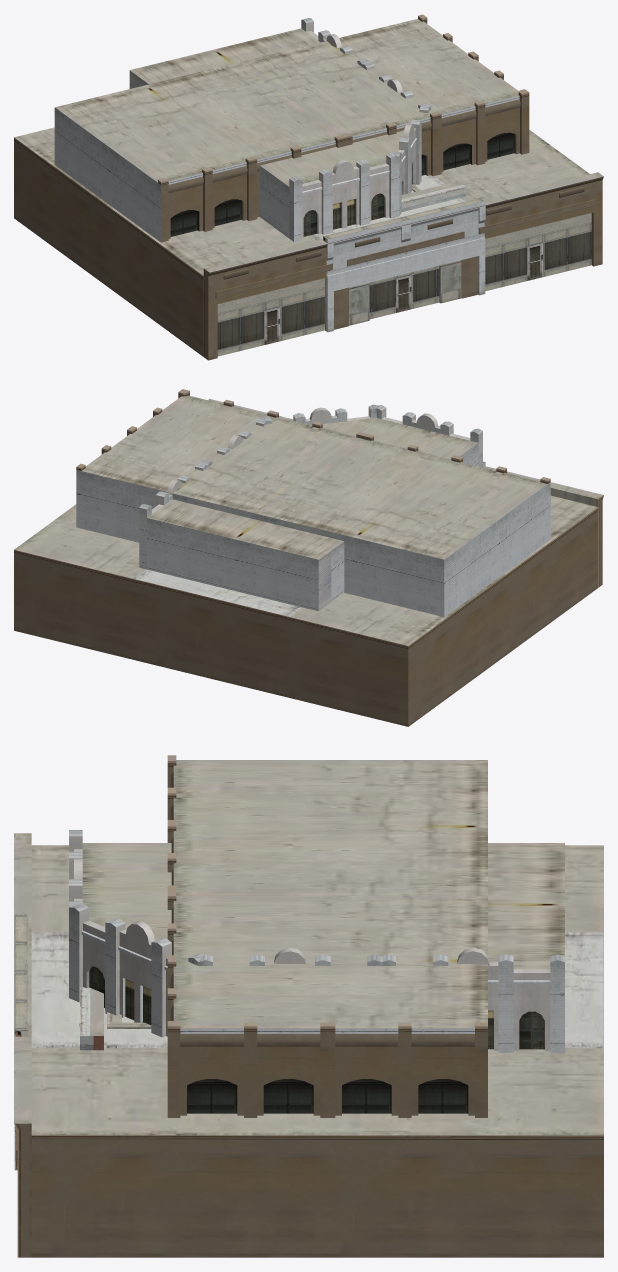
Rendered from bld_mid.glb.
3 views of the same model, one above another, from view 1: azimuth 30°, elevation 25°; view 2: azimuth 150°, elevation 25°; view 3: azimuth 270°, elevation 25° (orthographic). The views are drawn at different scales.
Parts seen in each view (by area): view 1: mid_06, mid_11, mid_14, mid_12, mid_10, mid_08; view 2: mid_06, mid_11, mid_14, mid_10, mid_12; view 3: mid_06, mid_11, mid_14, mid_12, mid_02, mid_08.
Part boxes in pixels (<box>): mid_06: <box>54,14,529,242</box>; mid_11: <box>14,127,603,360</box>; mid_14: <box>129,18,430,241</box>; mid_12: <box>307,175,485,332</box>; mid_10: <box>341,208,471,266</box>; mid_08: <box>401,184,466,211</box>; mid_06: <box>76,389,550,617</box>; mid_11: <box>14,399,603,726</box>; mid_14: <box>139,404,482,611</box>; mid_10: <box>145,582,276,694</box>; mid_12: <box>133,461,485,616</box>; mid_06: <box>167,755,487,1117</box>; mid_11: <box>14,833,603,1257</box>; mid_14: <box>69,830,564,1052</box>; mid_12: <box>14,914,603,1170</box>; mid_02: <box>90,988,103,1050</box>; mid_08: <box>80,987,93,1050</box>.
Size of the model in its own units: 30 by 10.68 by 25.77.
Materials: 3 (3 with a texture image).
